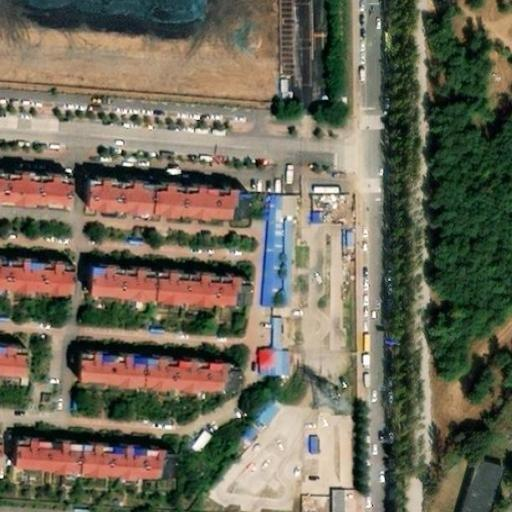building: (89, 190, 243, 239), (92, 280, 242, 328), (14, 446, 180, 488), (78, 364, 238, 400), (0, 181, 78, 223), (0, 264, 68, 307), (458, 464, 503, 512), (272, 207, 290, 316), (265, 330, 294, 390), (287, 232, 303, 316), (246, 391, 280, 428), (0, 355, 31, 388), (184, 422, 214, 454), (232, 417, 260, 447), (298, 491, 331, 512), (333, 497, 352, 512)
